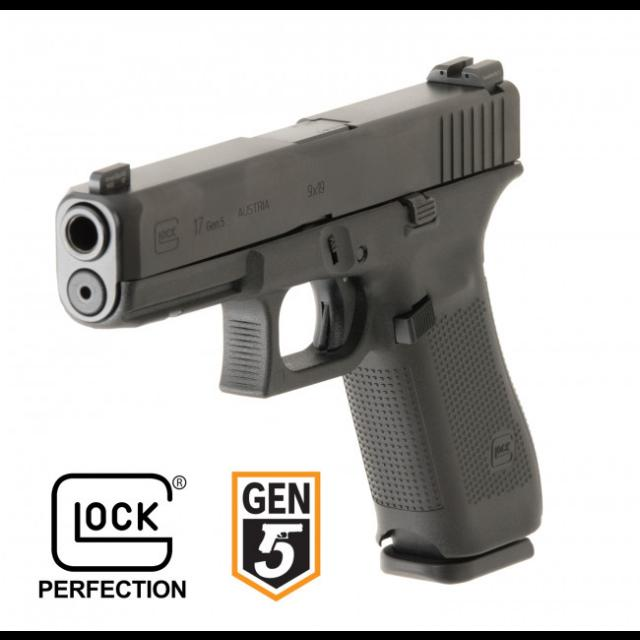handgun: (51, 48, 552, 588)
